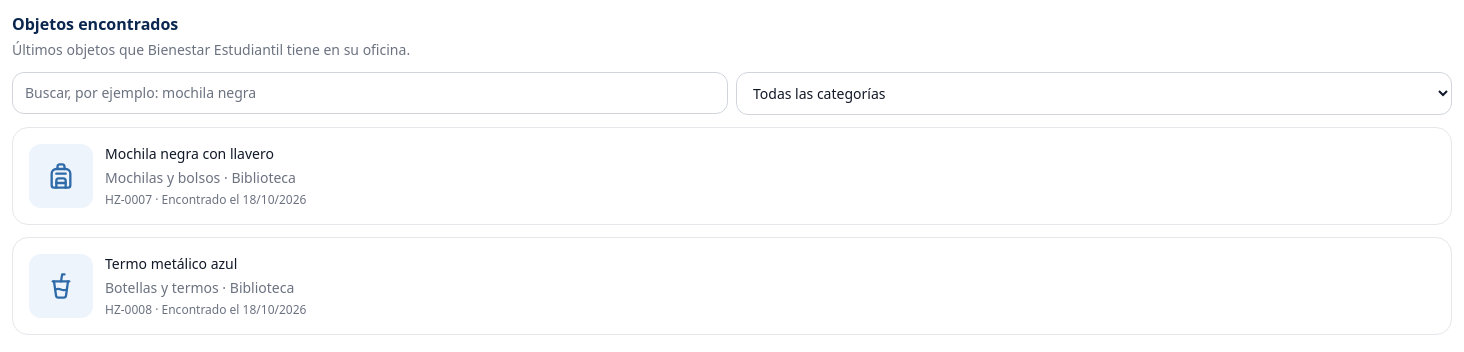
Test: Buscar en los objetos publicados › muestra solo los objetos que coinciden con lo escrito
Type "mochila negra" into the search field named "Buscar objetos".
click(370, 93); type("mochila negra")  # box [12,72,728,114]
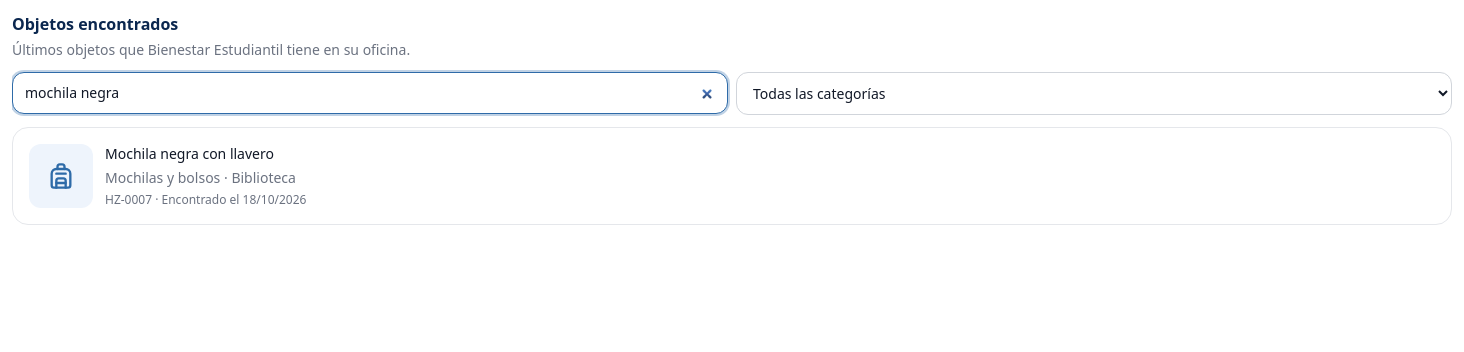
expect the text "Mochila negra con llavero" is shown: met, box [105,144,274,163]
expect the link "Termo metálico azul" is gone: met
